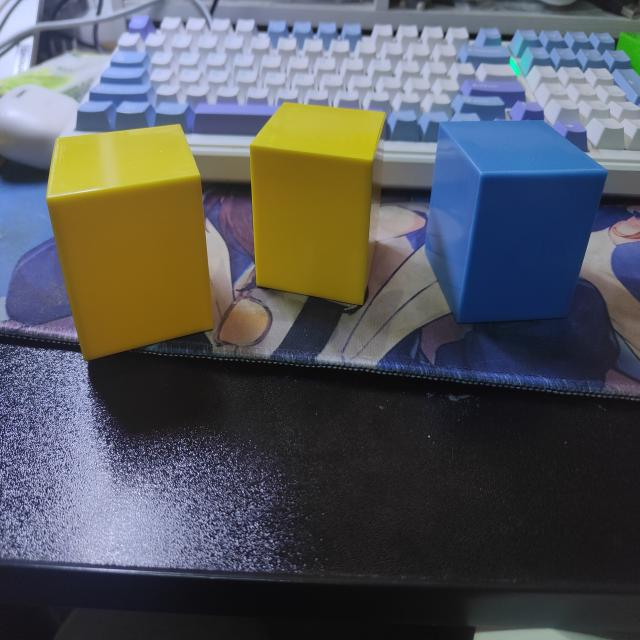blue: (420, 119, 609, 323)
yellow: (45, 123, 218, 363), (248, 102, 388, 304)
